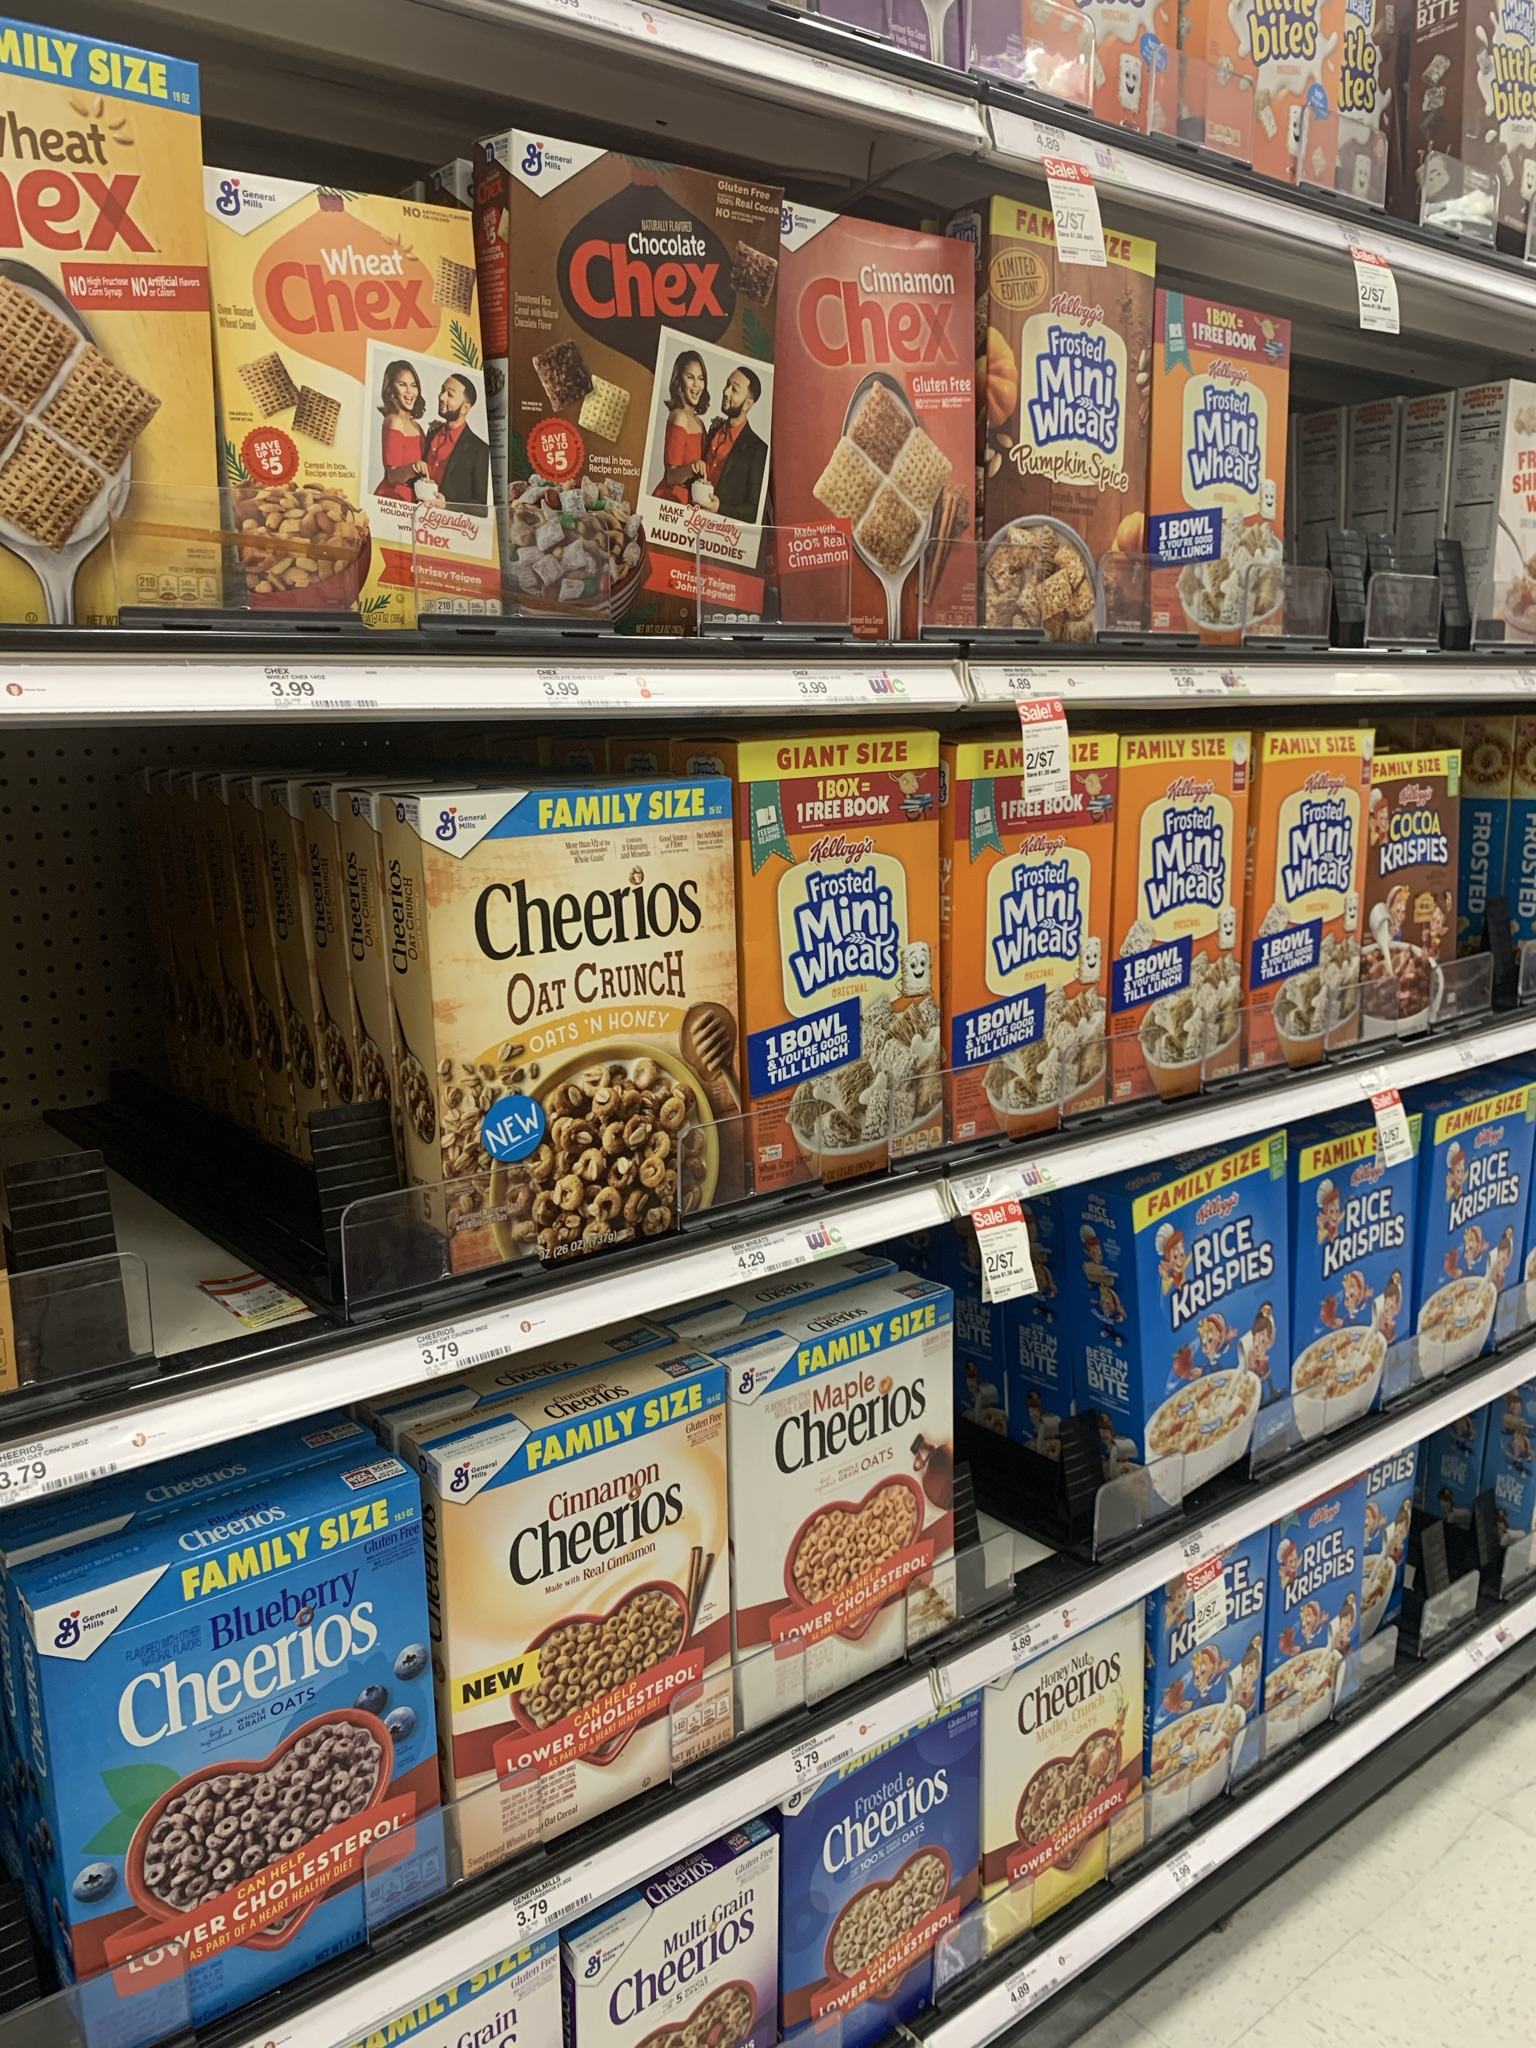Cereal Chex: (558, 171, 784, 611), (803, 224, 987, 605), (1007, 256, 1170, 648), (1187, 321, 1289, 589)
Cereal cheerios: (61, 1496, 466, 1851), (478, 1385, 724, 1793), (753, 1311, 979, 1675), (984, 1643, 1154, 1921), (794, 1806, 987, 1995), (597, 1954, 774, 2048)
Cereal cheeriosw: (457, 856, 715, 1235)
Cereal mini wheats: (758, 771, 939, 1179), (984, 761, 1102, 1119), (1134, 761, 1254, 1047), (1270, 771, 1375, 1089)
Cereal rice krispies: (1129, 1205, 1297, 1480), (1304, 1156, 1413, 1419), (1154, 1576, 1267, 1825), (1294, 1526, 1412, 1711), (1447, 1121, 1536, 1338)
wheat Chex: (6, 71, 227, 590), (260, 194, 502, 576)
